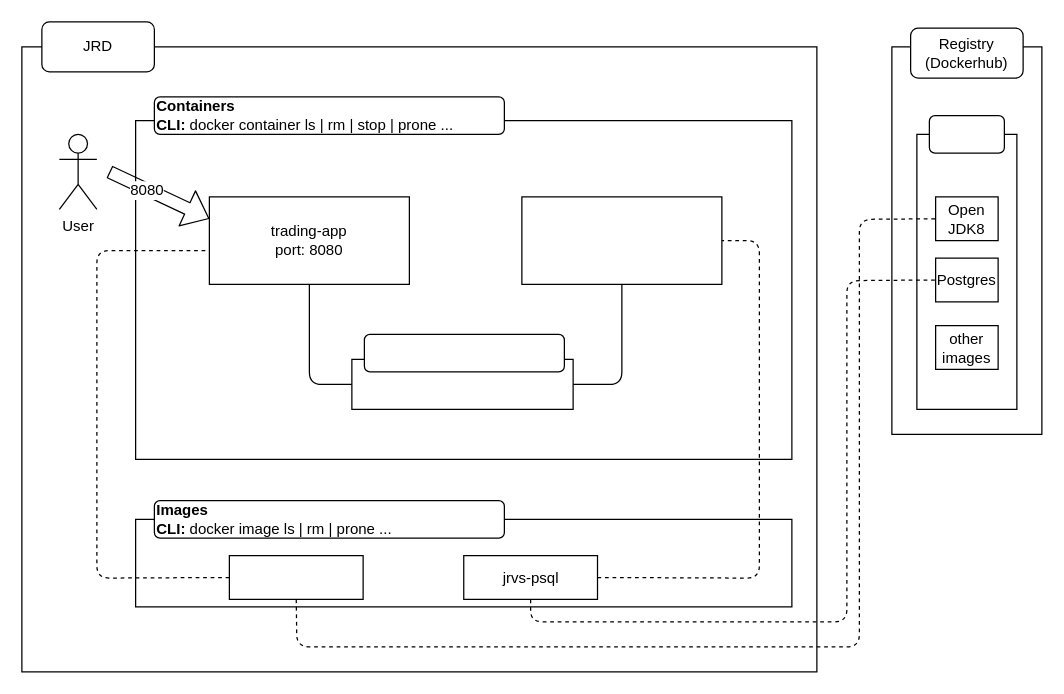
The diagram is 1064 pixels wide and 694 high, and some of its shapes have lost their labels. Each missing label, with the centre of its shape:
Docker Images: point 966,133
jrvs-psql port:5432: point 621,240
network CLI: docker network ls | rm: point 463,352
trading-app: point 295,576
trading-net: point 462,383
